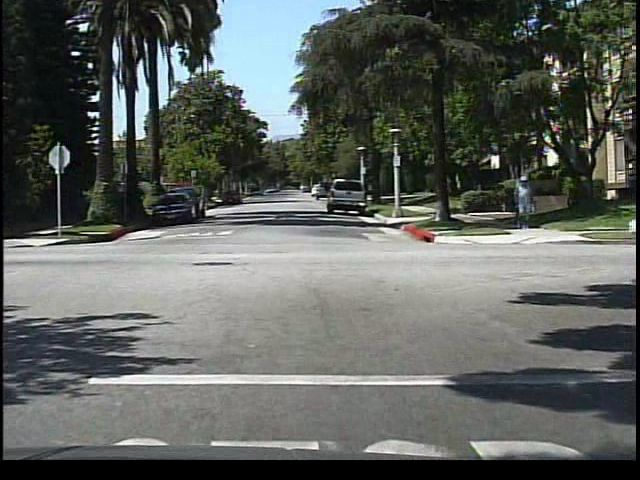person: (509, 173, 538, 230)
